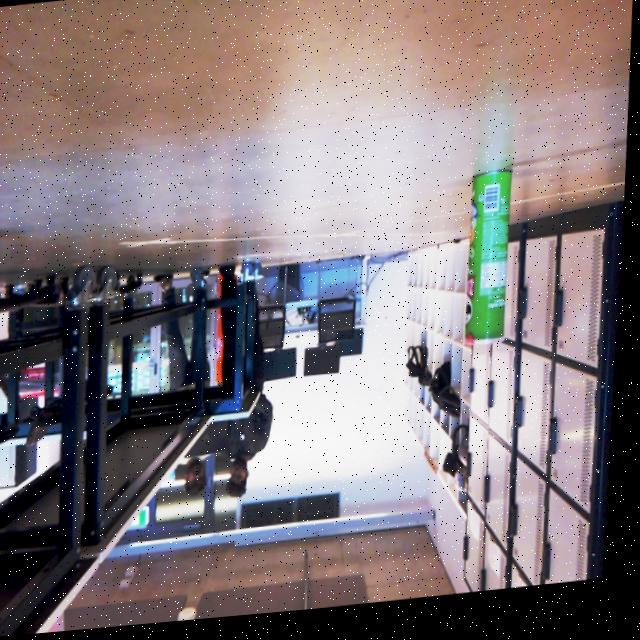greenpringles: (463, 160, 537, 377)
redpringles: (0, 203, 22, 426)
